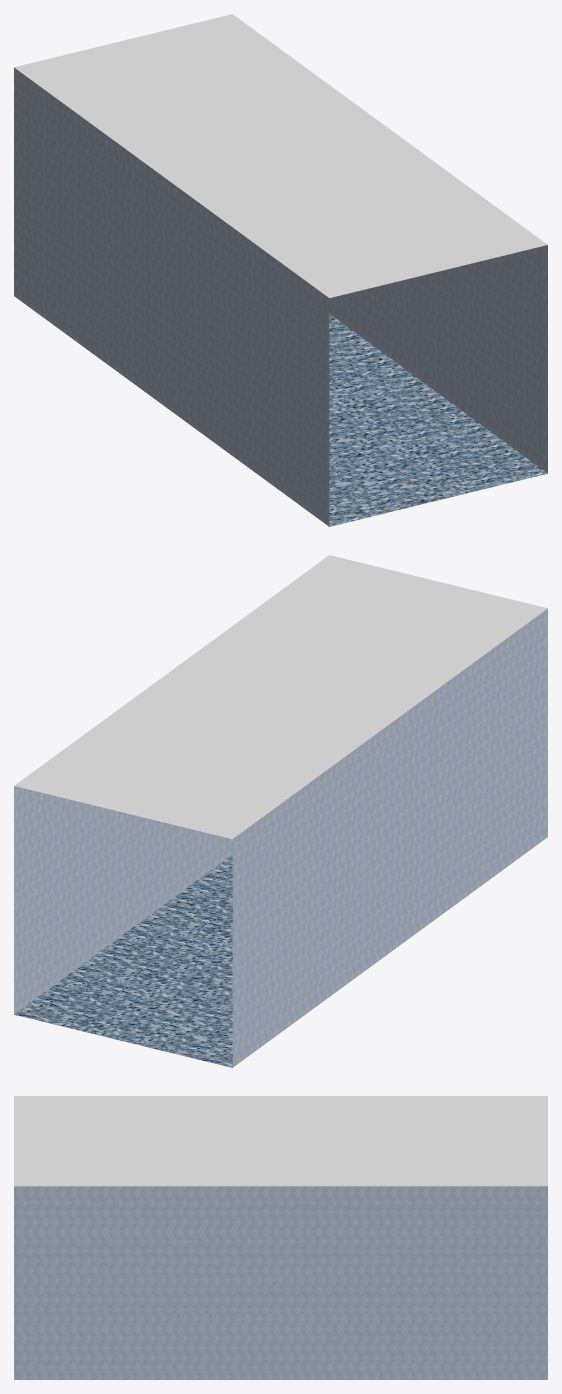
The model's file is hallway_4x4x10.gltf.
3 views of the same model, one above another, from view 1: azimuth 30°, elevation 25°; view 2: azimuth 150°, elevation 25°; view 3: azimuth 270°, elevation 25° (orthographic). The views are drawn at different scales.
Visible parts, largest first — view 1: Walls, Ceiling, Floor; view 2: Walls, Ceiling, Floor; view 3: Walls, Ceiling.
Boxes of the visible parts, <box> form: Walls: <box>14,67,547,526</box>; Ceiling: <box>14,14,547,297</box>; Floor: <box>329,314,547,526</box>; Walls: <box>14,608,547,1067</box>; Ceiling: <box>14,555,547,838</box>; Floor: <box>14,855,232,1067</box>; Walls: <box>14,1186,547,1379</box>; Ceiling: <box>14,1096,547,1186</box>.
Bounding box in the file's own units: 4 × 4 × 10.
3 materials, 2 textured.
